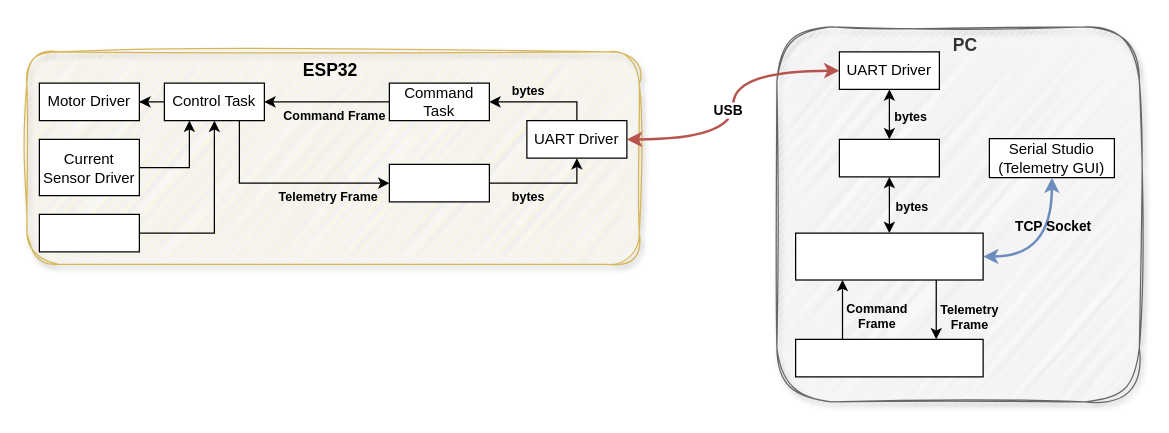
This 1169x433 diagram has some shape labels left out. Each missing label, with the centre of its shape:
"async Serial Transport Protocol" goes at (888,256).
"Encoder Driver" goes at (88,232).
"Game/Test Scripts" goes at (888,357).
"pyserial" goes at (888,157).
"Telemetry Task" goes at (438,182).
